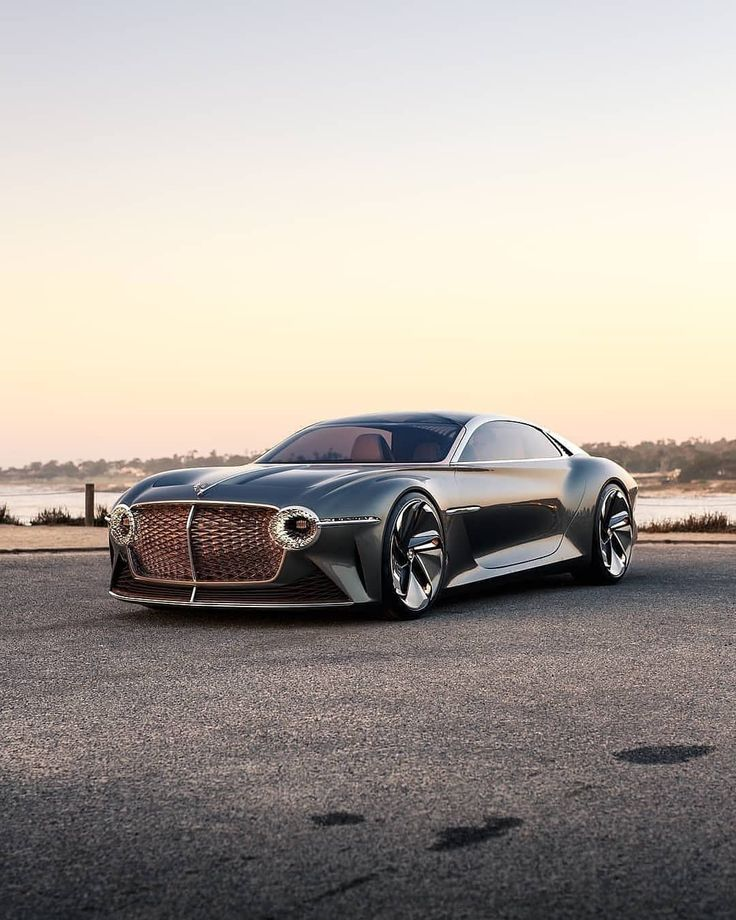Car: (110, 409, 650, 616)
